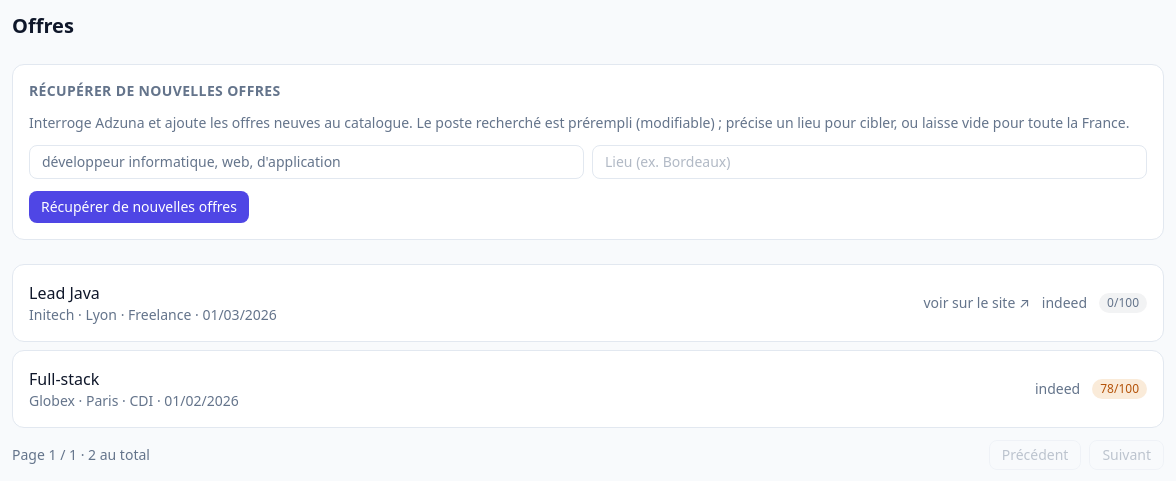
it: OffersPage › démarre une collecte (POST /collect → 202) puis sonde et affiche le bilan
The image size is (1176, 481).
Check: the button "Lead Java" is shown, box [29,281,908,305]
// Le poste est prérempli (OPP-167) : on le remplace pour vérifier la transmission.
Replace the text in the field named "Poste recherché" with "python". click: (306, 162)
box: [29,145,584,179]
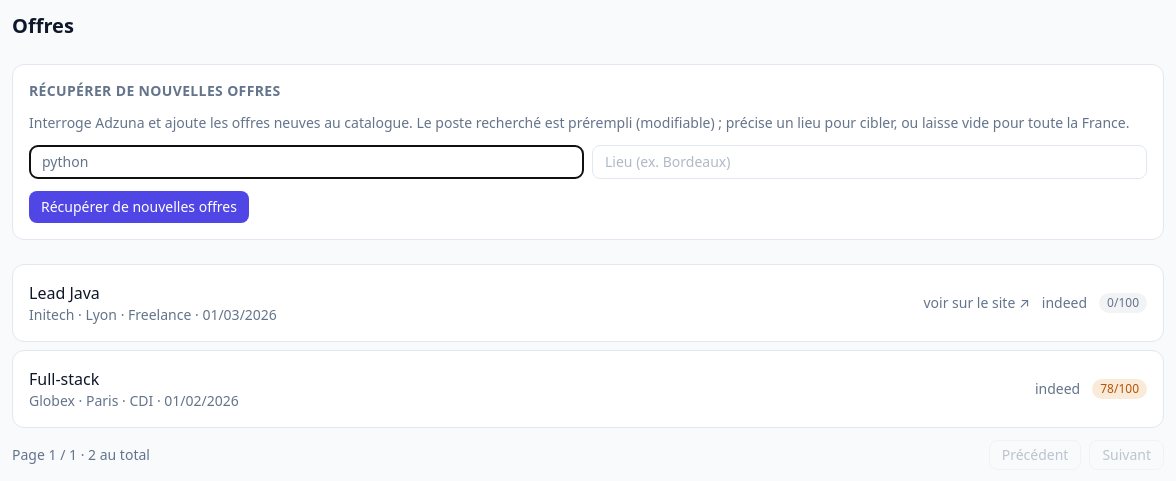
Type "Paris" into the field named "Lieu de recherche". click: (870, 162)
box: [592,145,1147,179]
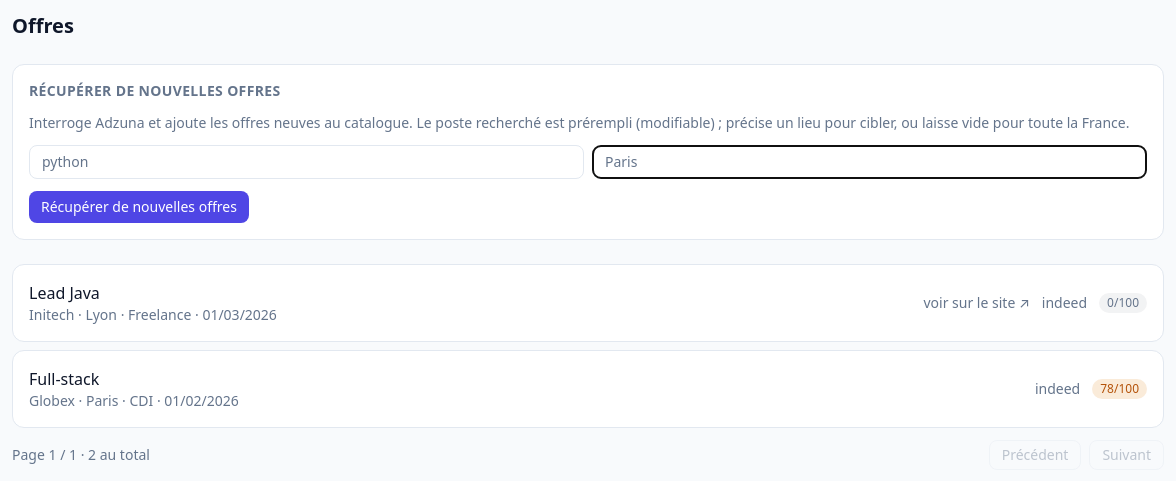
Click the button "Récupérer de nouvelles offres". click: (139, 207)
box: [29,191,249,223]
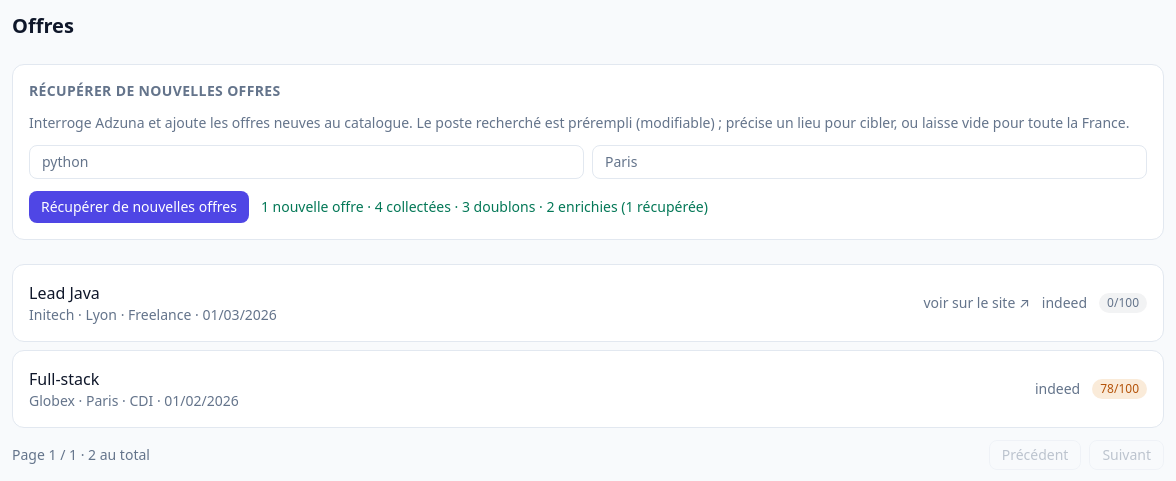
Check: the text "1 nouvelle offre" is shown, box [261,197,708,217]
Check: the text "2 enrichies (1 récupérée)" is shown, box [535,197,708,216]
